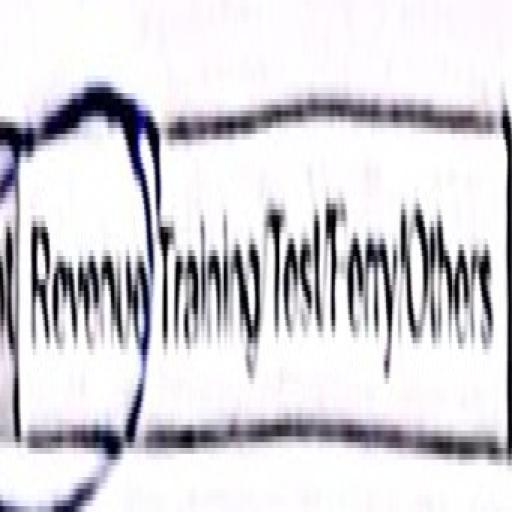check: (0, 64, 156, 507)
